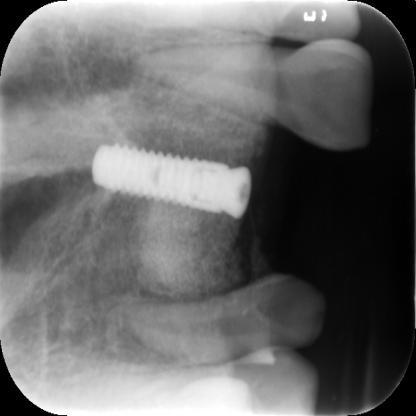ITI: (91, 138, 253, 222)
